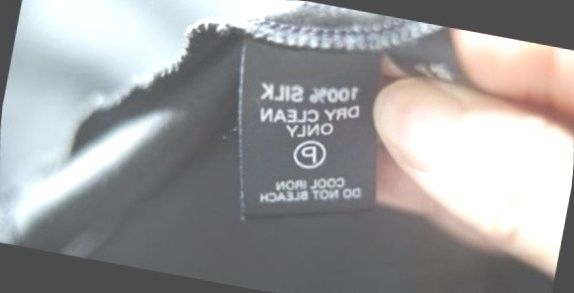dry_clean_any_solvent_except_trichloroethylene: (287, 133, 331, 175)
